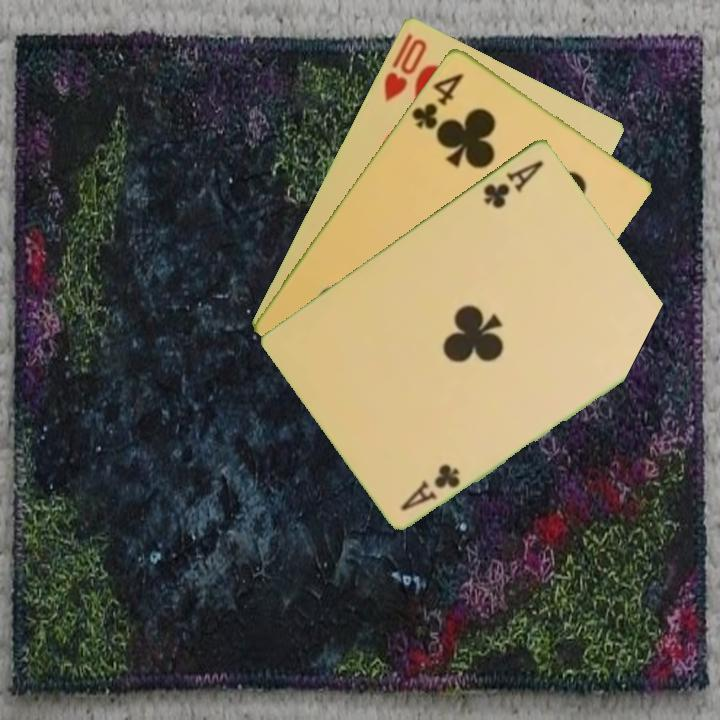10h: (380, 29, 430, 105)
4c: (408, 69, 467, 132)
Ac: (479, 156, 547, 211), (397, 459, 464, 513)
